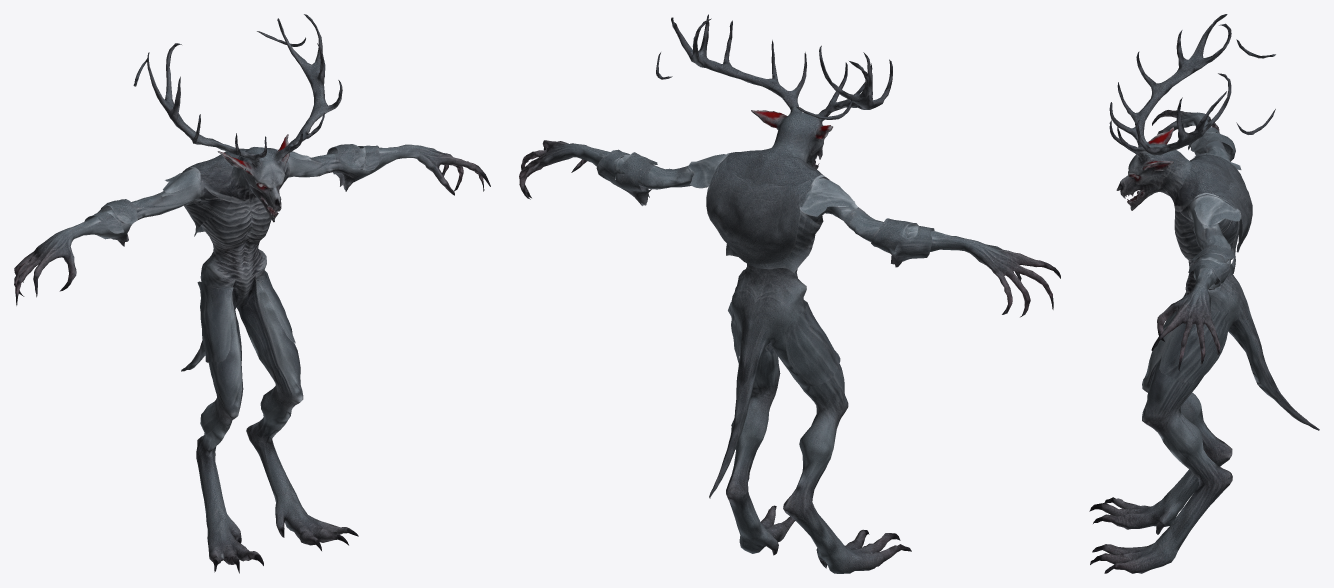
Rendered from Frosthorn_TPose_LowRes.fbx.
3 renders of one model, left to right at view 1: azimuth 30°, elevation 25°; view 2: azimuth 150°, elevation 25°; view 3: azimuth 270°, elevation 25°, orthographic. The views are drawn at different scales.
Parts seen in each view (by area): view 1: Mesh_0; view 2: Mesh_0; view 3: Mesh_0.
Part boxes in pixels (x1,y1,x2,y2): Mesh_0: (14,14,490,573); Mesh_0: (519,14,1060,573); Mesh_0: (1089,14,1319,573).
Size of the model in its own units: 300 by 300 by 126.
Materials: 1 (1 with a texture image).
